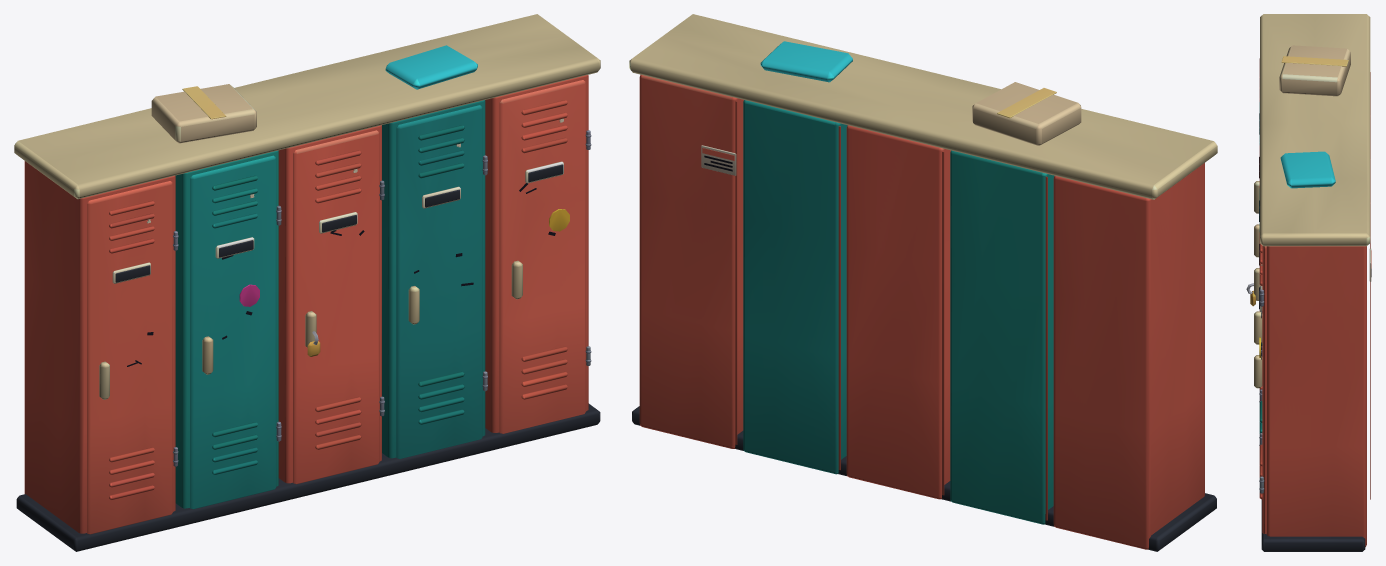
File: SM_Wardrobe_LockerBank.fbx
The picture shows the model from 3 angles, left to right: view 1: azimuth 30°, elevation 25°; view 2: azimuth 150°, elevation 25°; view 3: azimuth 270°, elevation 25°; orthographic projection. The views are drawn at different scales.
Visible parts, largest first — view 1: SM_Wardrobe_LockerBank; view 2: SM_Wardrobe_LockerBank; view 3: SM_Wardrobe_LockerBank.
Part boxes in pixels (x1,y1,x2,y2): SM_Wardrobe_LockerBank: (14, 14, 600, 551); SM_Wardrobe_LockerBank: (629, 14, 1217, 551); SM_Wardrobe_LockerBank: (1246, 14, 1371, 551).
Size of the model in its own units: 306 by 217 by 72.77.
